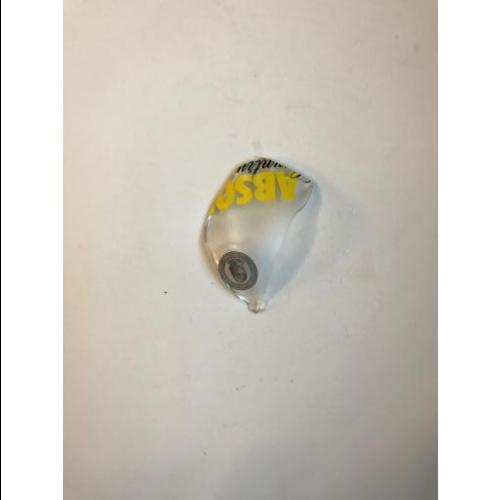glass: (206, 161, 303, 297)
